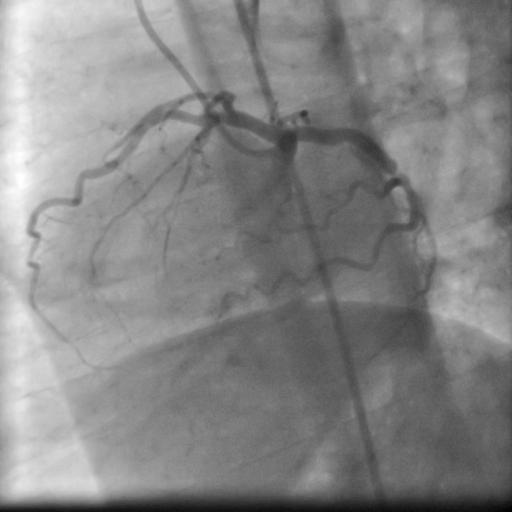Stenosis: (382, 167, 406, 178)
